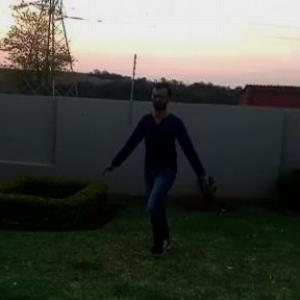land: (106, 75, 228, 279)
